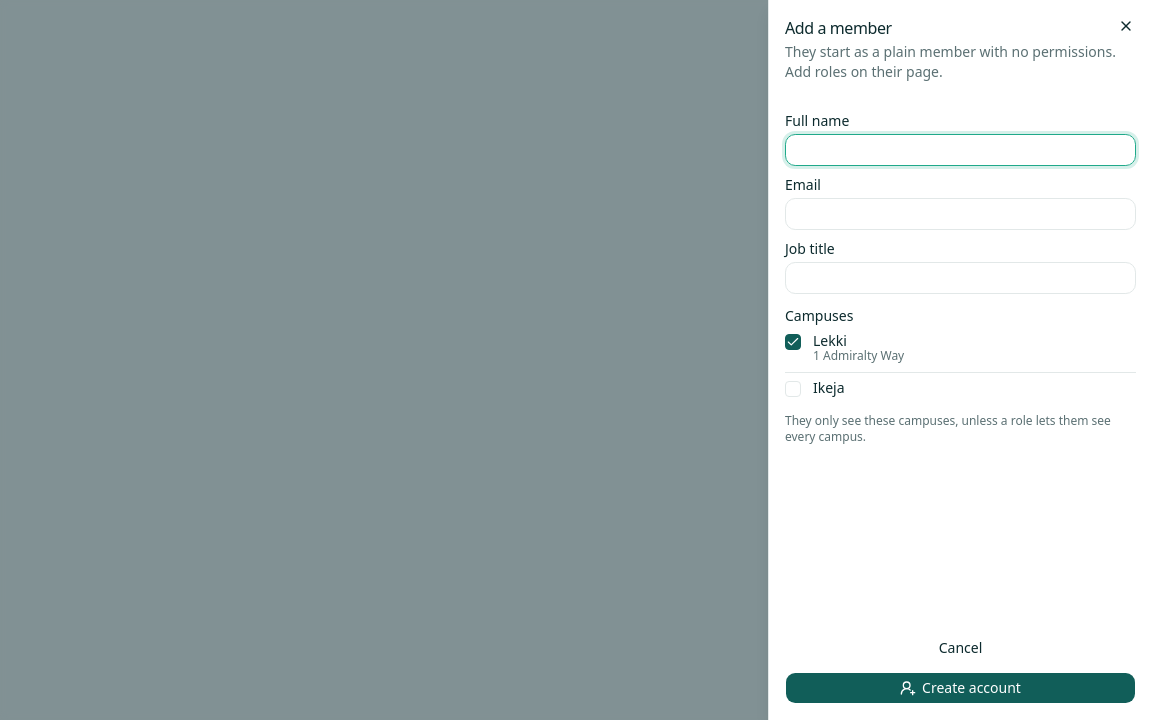
AddMemberSheet › shows the already-on-the-list message under Email
The image size is (1152, 720).
Check: the checkbox named "Lekki" next to "Lekki" is shown, box [785, 334, 801, 350]
Type "Ada Obi" into the field labelled "Full name".
click(960, 150); type("Ada Obi")  # box [785, 134, 1136, 166]
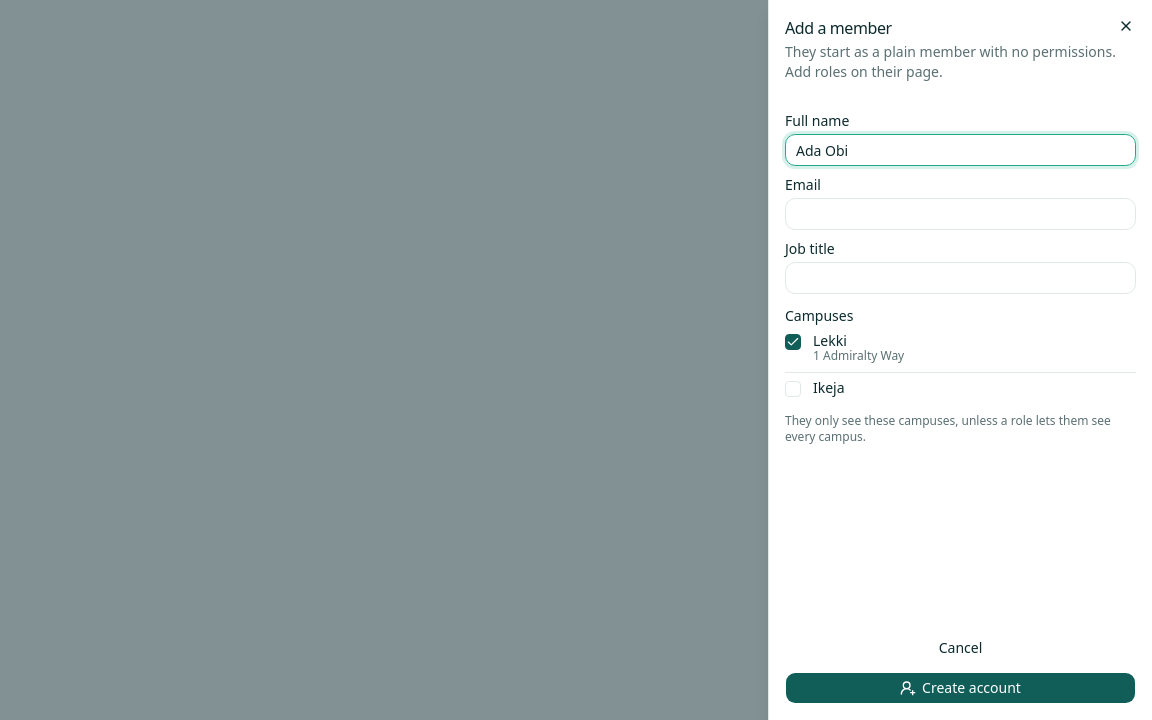
Type "ada@example.test" into the field labelled "Email".
click(960, 214); type("ada@example.test")  # box [785, 198, 1136, 230]
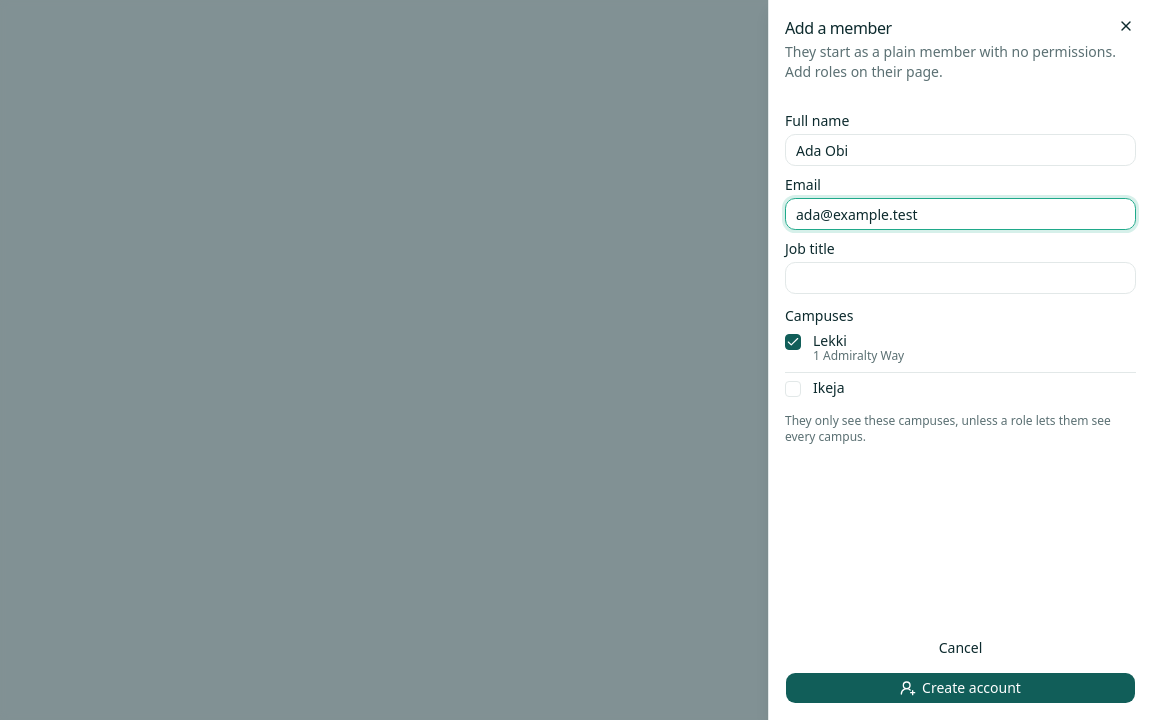
Click the button "Create account".
click(960, 688)  # box [785, 672, 1136, 704]
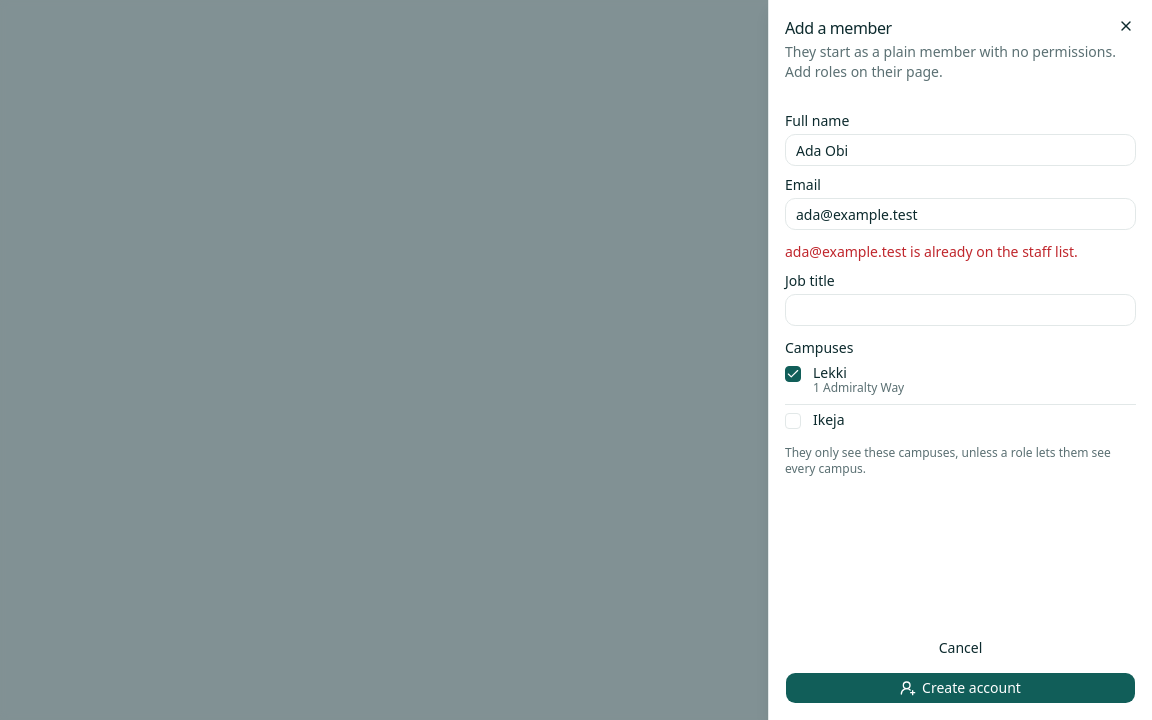
Check: the text "ada@example.test is already on the staff list." is shown, box [785, 242, 1078, 261]
